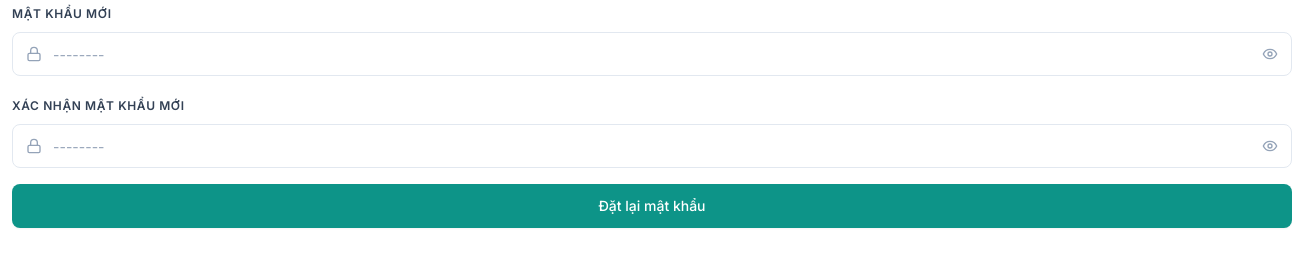
ResetPasswordForm › displays validation error when password has less than 8 characters
The width and height of the screenshot is (1304, 269).
Type "Short1@" into the password field labelled "Mật khẩu mới" at (652, 54), box [12,32,1292,76]
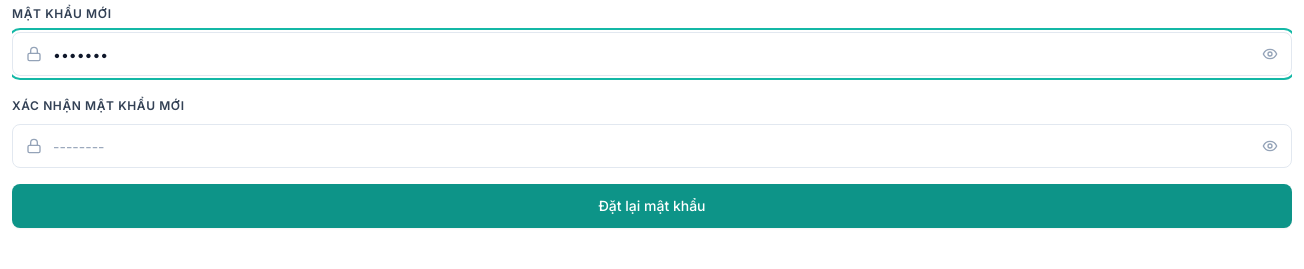
Type "Short1@" into the password field labelled "Xác nhận mật khẩu mới" at (652, 146), box [12,124,1292,168]
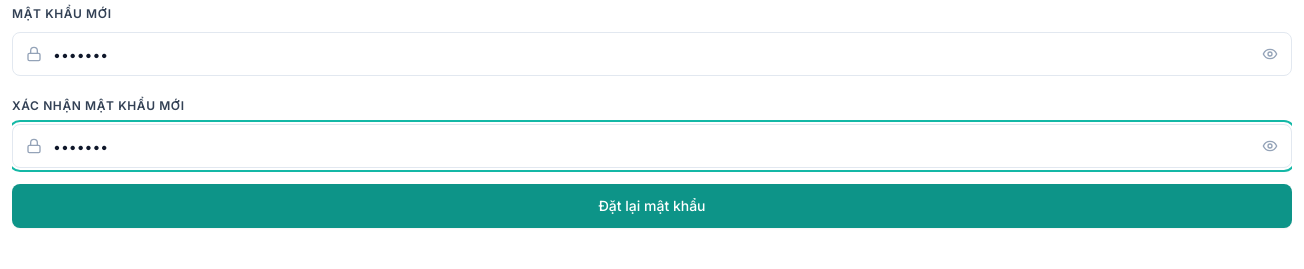
Click the button "Đặt lại mật khẩu" at (652, 206), box [12,184,1292,228]
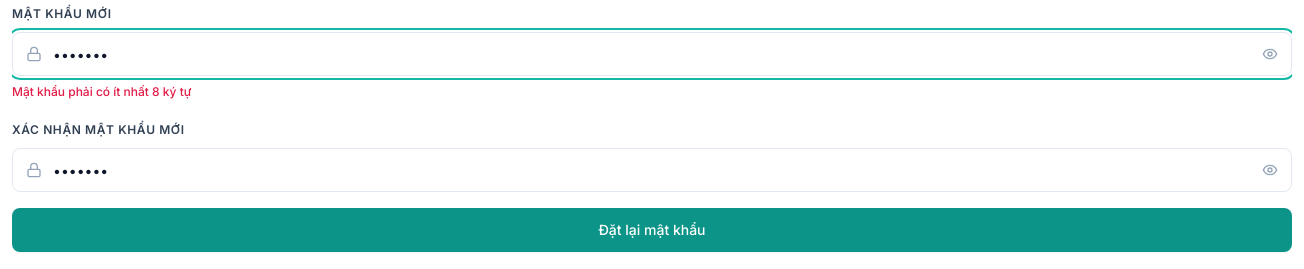
Now the text "Mật khẩu phải có ít nhất 8 ký tự" is shown, box [12,84,191,99]
